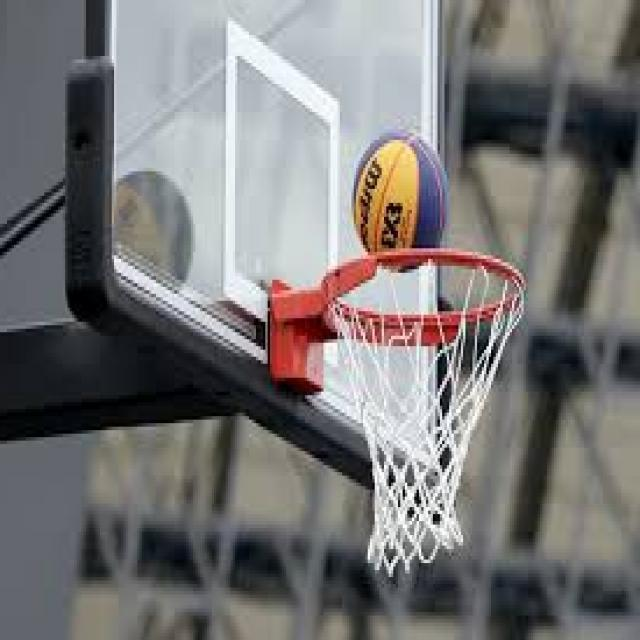hoop: (275, 269, 522, 575)
